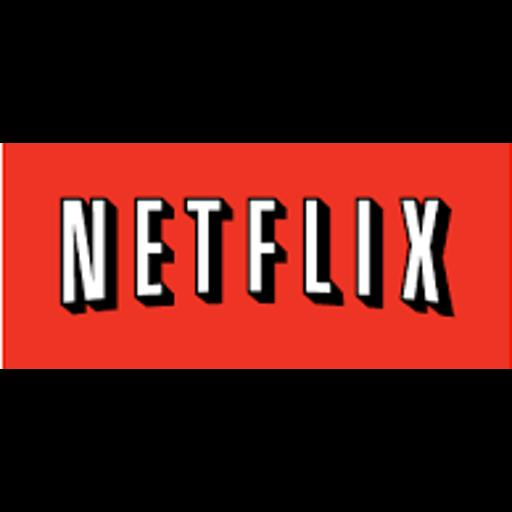Netflix: (0, 143, 512, 369)
